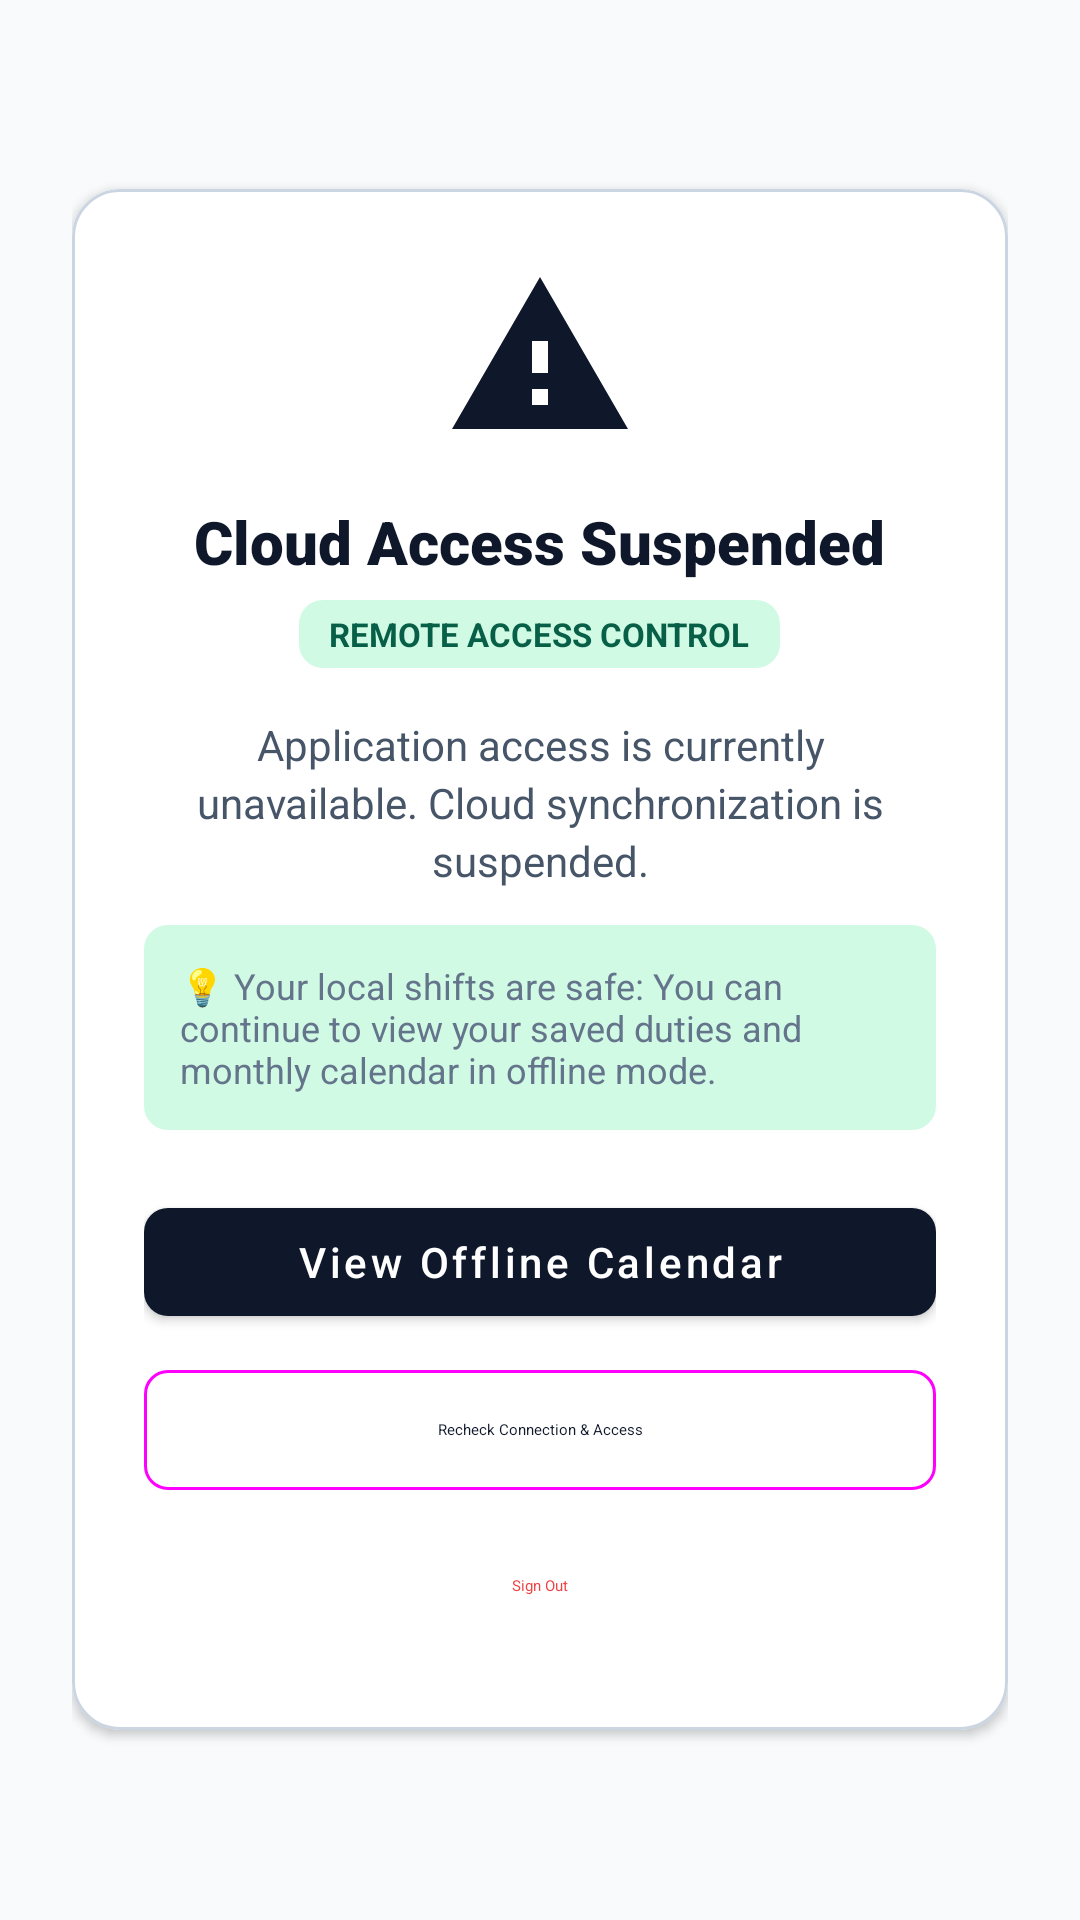

Where to tap for icons on this 1080 × 1920 app screen, as point (x, y):
Access Status: point (540, 353)
